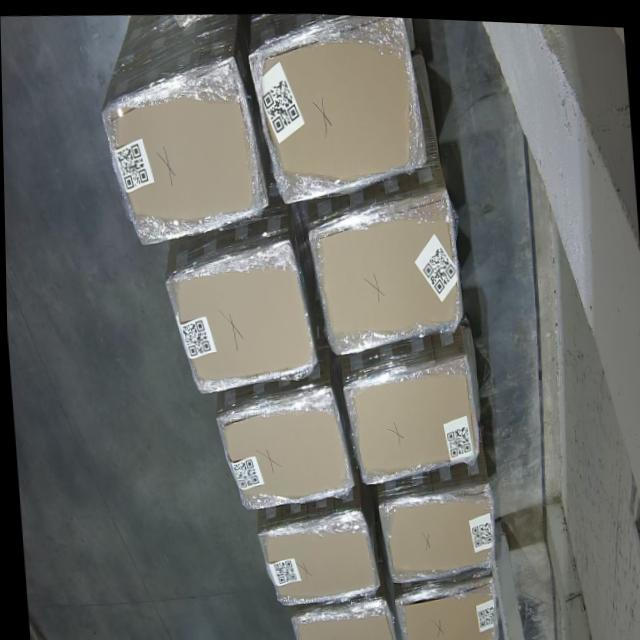pallet: (247, 14, 428, 202), (103, 48, 268, 249), (308, 191, 463, 352), (163, 241, 319, 390), (342, 346, 480, 484), (212, 374, 352, 508), (257, 504, 377, 604), (378, 483, 496, 580), (393, 570, 497, 640), (287, 597, 394, 640)
